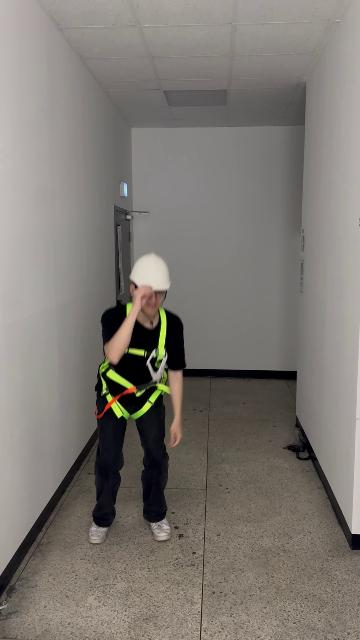helmet_worn: (128, 252, 172, 290)
shoe_not_worn: (150, 518, 171, 541), (88, 522, 109, 544)
vest_worn: (96, 304, 173, 420)
